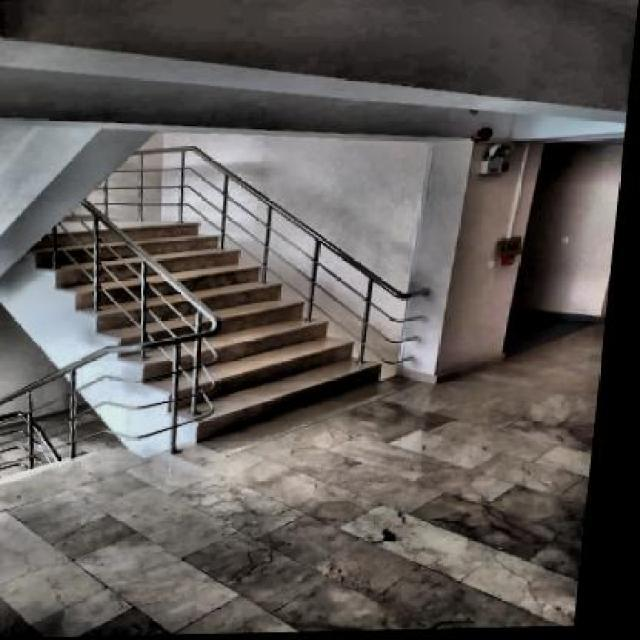stair: (21, 224, 412, 438)
